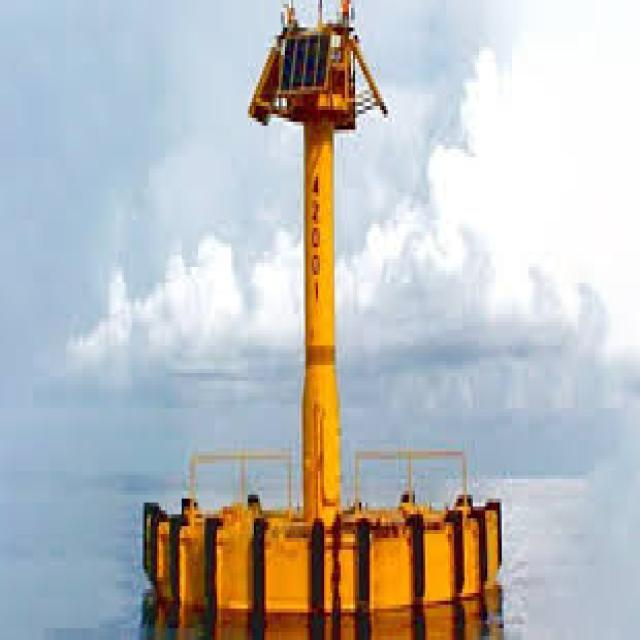buoy: (129, 14, 517, 636)
